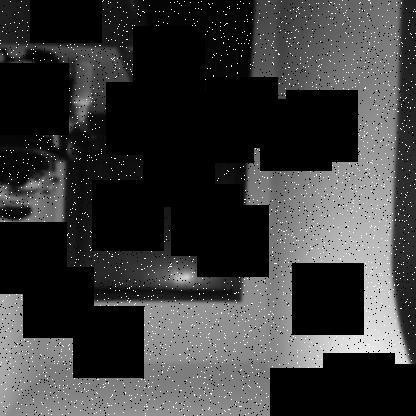Porte: (59, 0, 258, 304)
